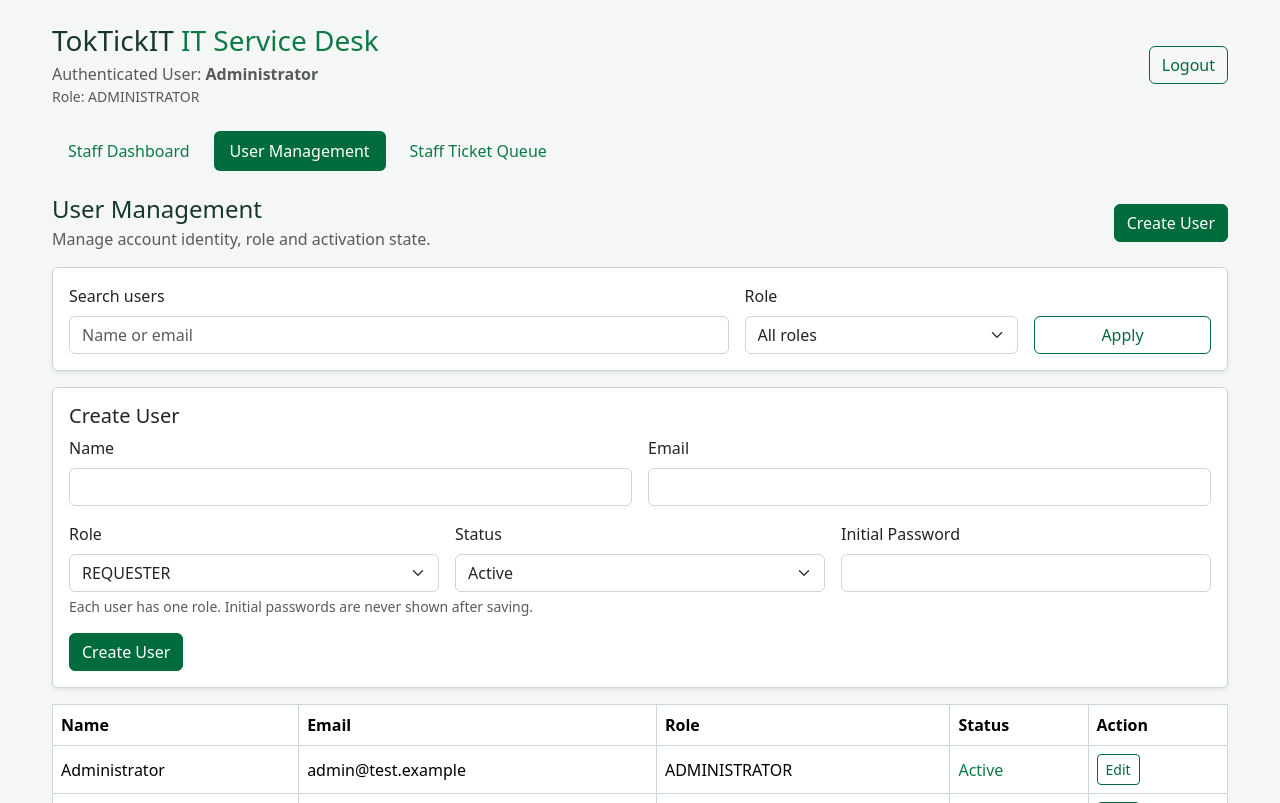
Test case: Lab 3 role navigation and authorization states › refreshes the authenticated navigation after an Administrator changes their own role
The width and height of the screenshot is (1280, 803).
Expected: the heading "User Management" is shown, [52,192,262,225]
Click the button "Edit" in the row of "admin@test.example": point(1118, 770) [1096,754,1140,785]
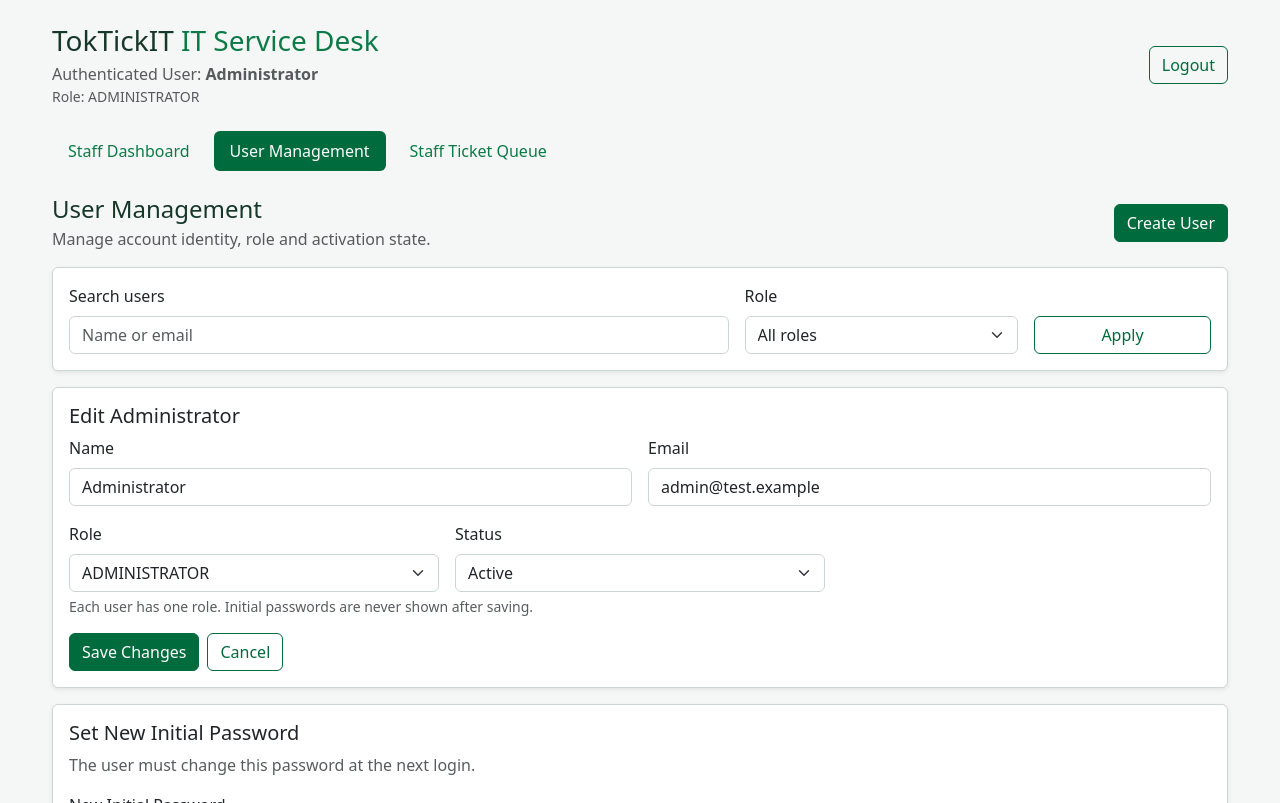
Select "REQUESTER" in the dropdown labelled "Role" below "Edit Administrator": point(254, 573) [69,554,439,592]
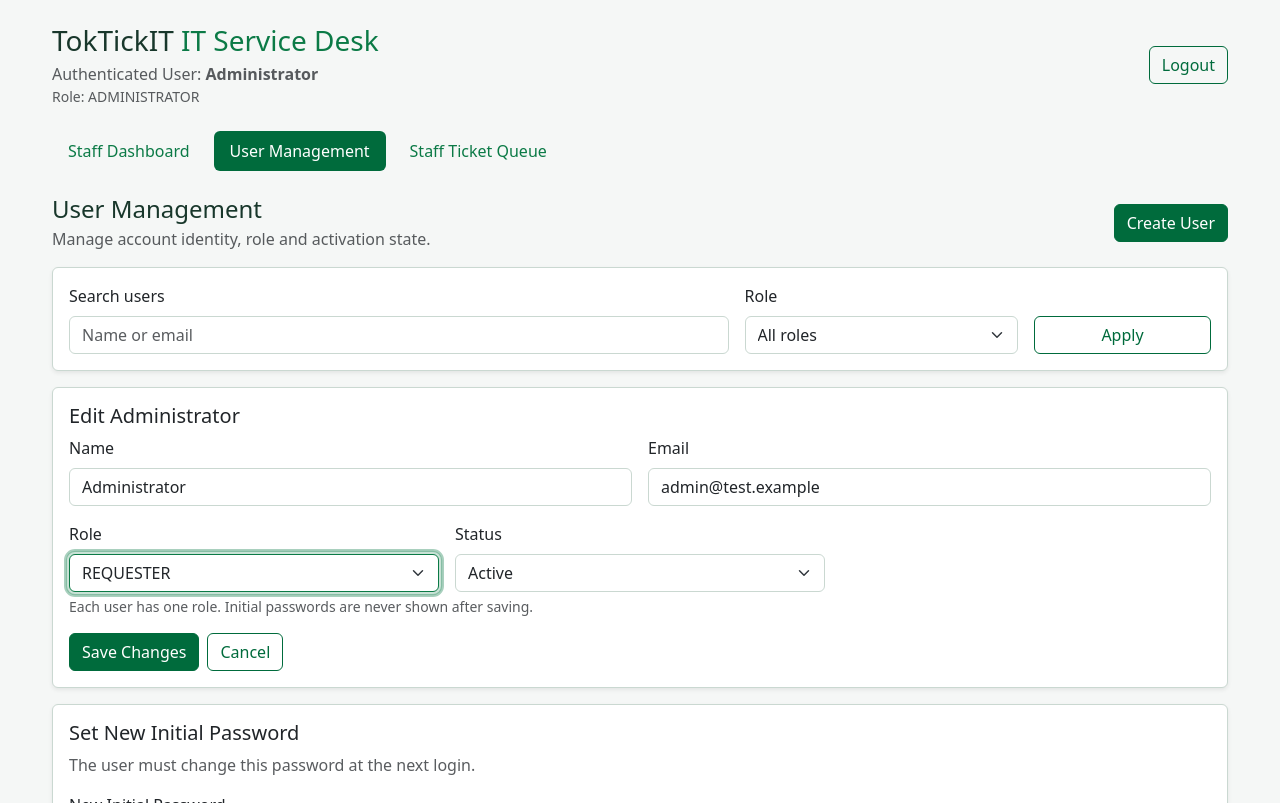
Click the button "Save Changes": point(134, 652) [69,633,200,671]
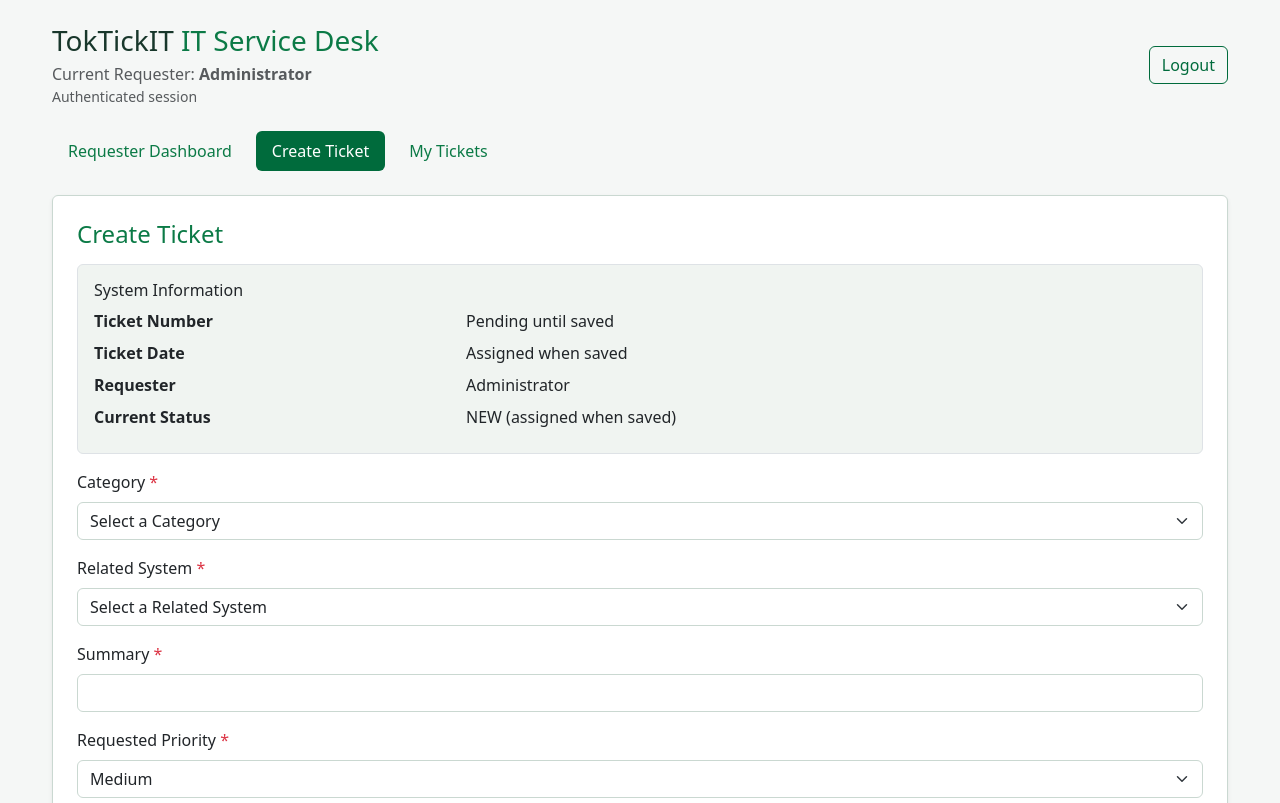
Expected: the button "User Management" is gone
